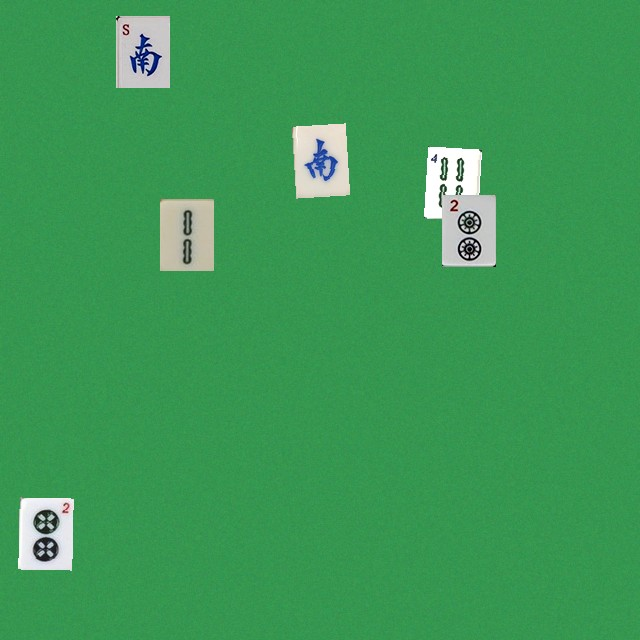tile: (159, 198, 213, 270), (423, 146, 477, 218), (18, 497, 72, 569), (291, 123, 345, 195), (441, 194, 495, 266), (115, 15, 169, 87)
